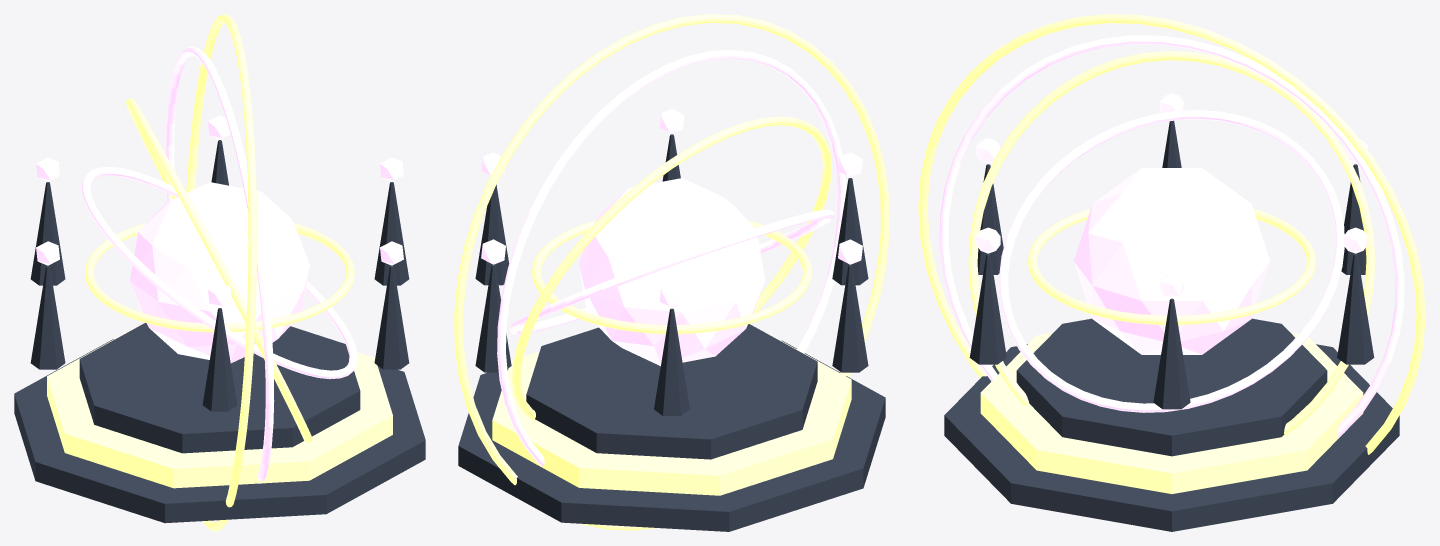
File: gpu-blender-v19.glb
3 views of the same model, side by side, from view 1: azimuth 30°, elevation 25°; view 2: azimuth 150°, elevation 25°; view 3: azimuth 270°, elevation 25° (orthographic). The views are drawn at different scales.
Visible parts, largest first — view 1: Cylinder.002, Cylinder, SovereignCore_web-security-guard, Cylinder.001, Torus.004, Torus.003, Torus.001, Torus, Torus.002, Cone.004, Cone.003, Cone.005 (+3 smaller); view 2: Cylinder.002, SovereignCore_web-security-guard, Cylinder, Cylinder.001, Torus.004, Torus.003, Torus.002, Torus.001, Torus, Cone.003, Cone.002, Cone.001 (+2 smaller); view 3: SovereignCore_web-security-guard, Cylinder.002, Cylinder, Cylinder.001, Torus.004, Torus.001, Torus.003, Torus.002, Torus, Cone, Cone.001, Cone.005 (+3 smaller).
Boxes of the visible parts, <box> form: Cylinder.002: <box>79,323,360,453</box>; Cylinder: <box>14,339,425,523</box>; SovereignCore_web-security-guard: <box>130,182,309,363</box>; Cylinder.001: <box>47,330,392,488</box>; Torus.004: <box>186,14,257,531</box>; Torus.003: <box>165,47,274,483</box>; Torus.001: <box>82,166,357,379</box>; Torus: <box>85,223,354,332</box>; Torus.002: <box>126,98,312,442</box>; Cone.004: <box>202,308,237,411</box>; Cone.003: <box>30,266,65,369</box>; Cone.005: <box>374,266,409,369</box>; Cylinder.002: <box>526,324,817,459</box>; SovereignCore_web-security-guard: <box>578,178,765,366</box>; Cylinder: <box>458,340,885,531</box>; Cylinder.001: <box>492,331,851,495</box>; Torus.004: <box>454,14,889,530</box>; Torus.003: <box>497,49,846,466</box>; Torus.002: <box>512,116,831,419</box>; Torus.001: <box>510,209,833,334</box>; Torus: <box>531,220,812,333</box>; Cone.003: <box>832,265,868,372</box>; Cone.002: <box>654,308,689,415</box>; Cone.001: <box>475,265,511,372</box>; SovereignCore_web-security-guard: <box>1073,168,1270,354</box>; Cylinder.002: <box>1016,318,1327,456</box>; Cylinder: <box>944,344,1399,531</box>; Cylinder.001: <box>980,332,1363,493</box>; Torus.004: <box>918,14,1425,454</box>; Torus.001: <box>999,110,1344,412</box>; Torus.003: <box>939,35,1404,437</box>; Torus.002: <box>968,51,1375,435</box>; Torus: <box>1027,209,1316,324</box>; Cone: <box>1153,298,1190,409</box>; Cone.001: <box>1337,254,1374,364</box>; Cone.005: <box>969,254,1006,364</box>.
Bounding box in the file's own units: 4.41 × 5.33 × 4.9.
